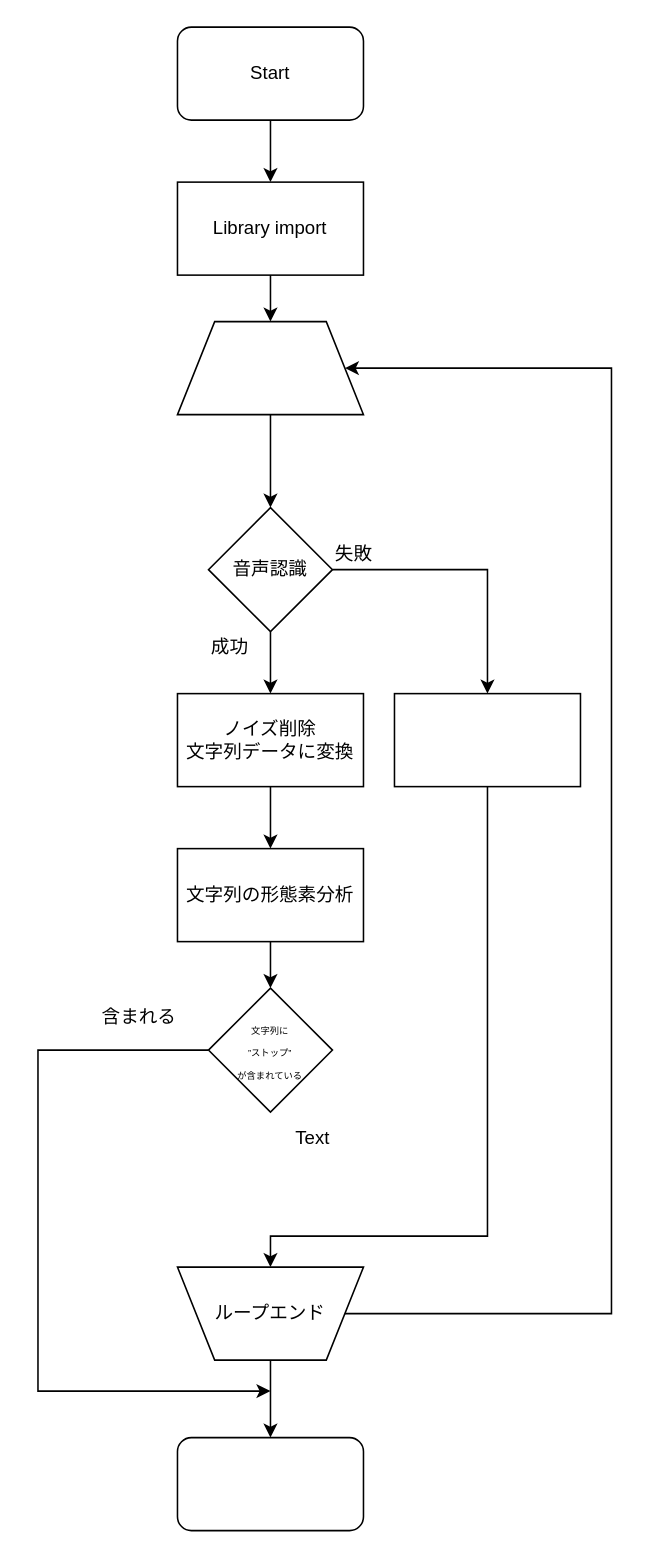
Some shapes in this 651 by 1558 pixel diagram are drawn without their labels. Here are the shapes that lost their labels. From the top down, the centre of each, then its label:
the point at 269,367: ループスタート
the point at 486,739: よく聞き取れませんでしたと表示
the point at 269,1483: End
